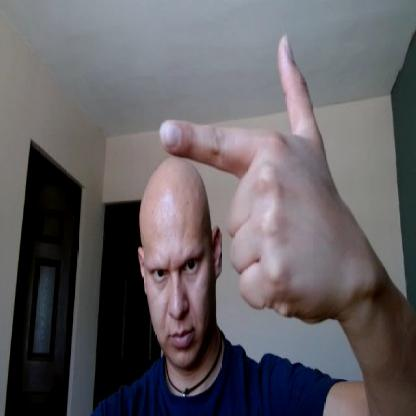G: (158, 34, 348, 322)
